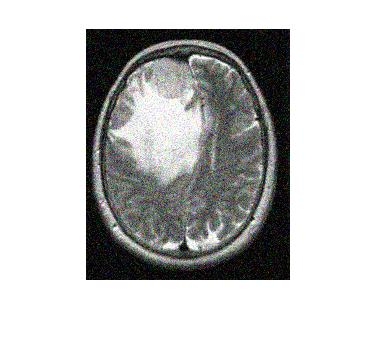Brain_Cancer: (147, 56, 199, 105)
